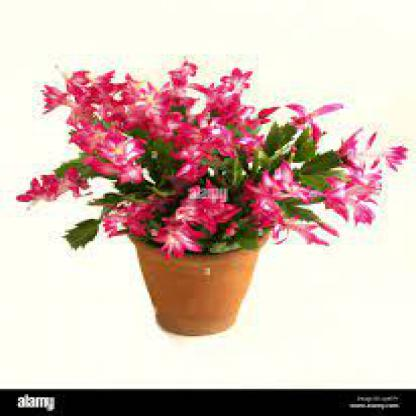Aglonema: (76, 53, 385, 308)
